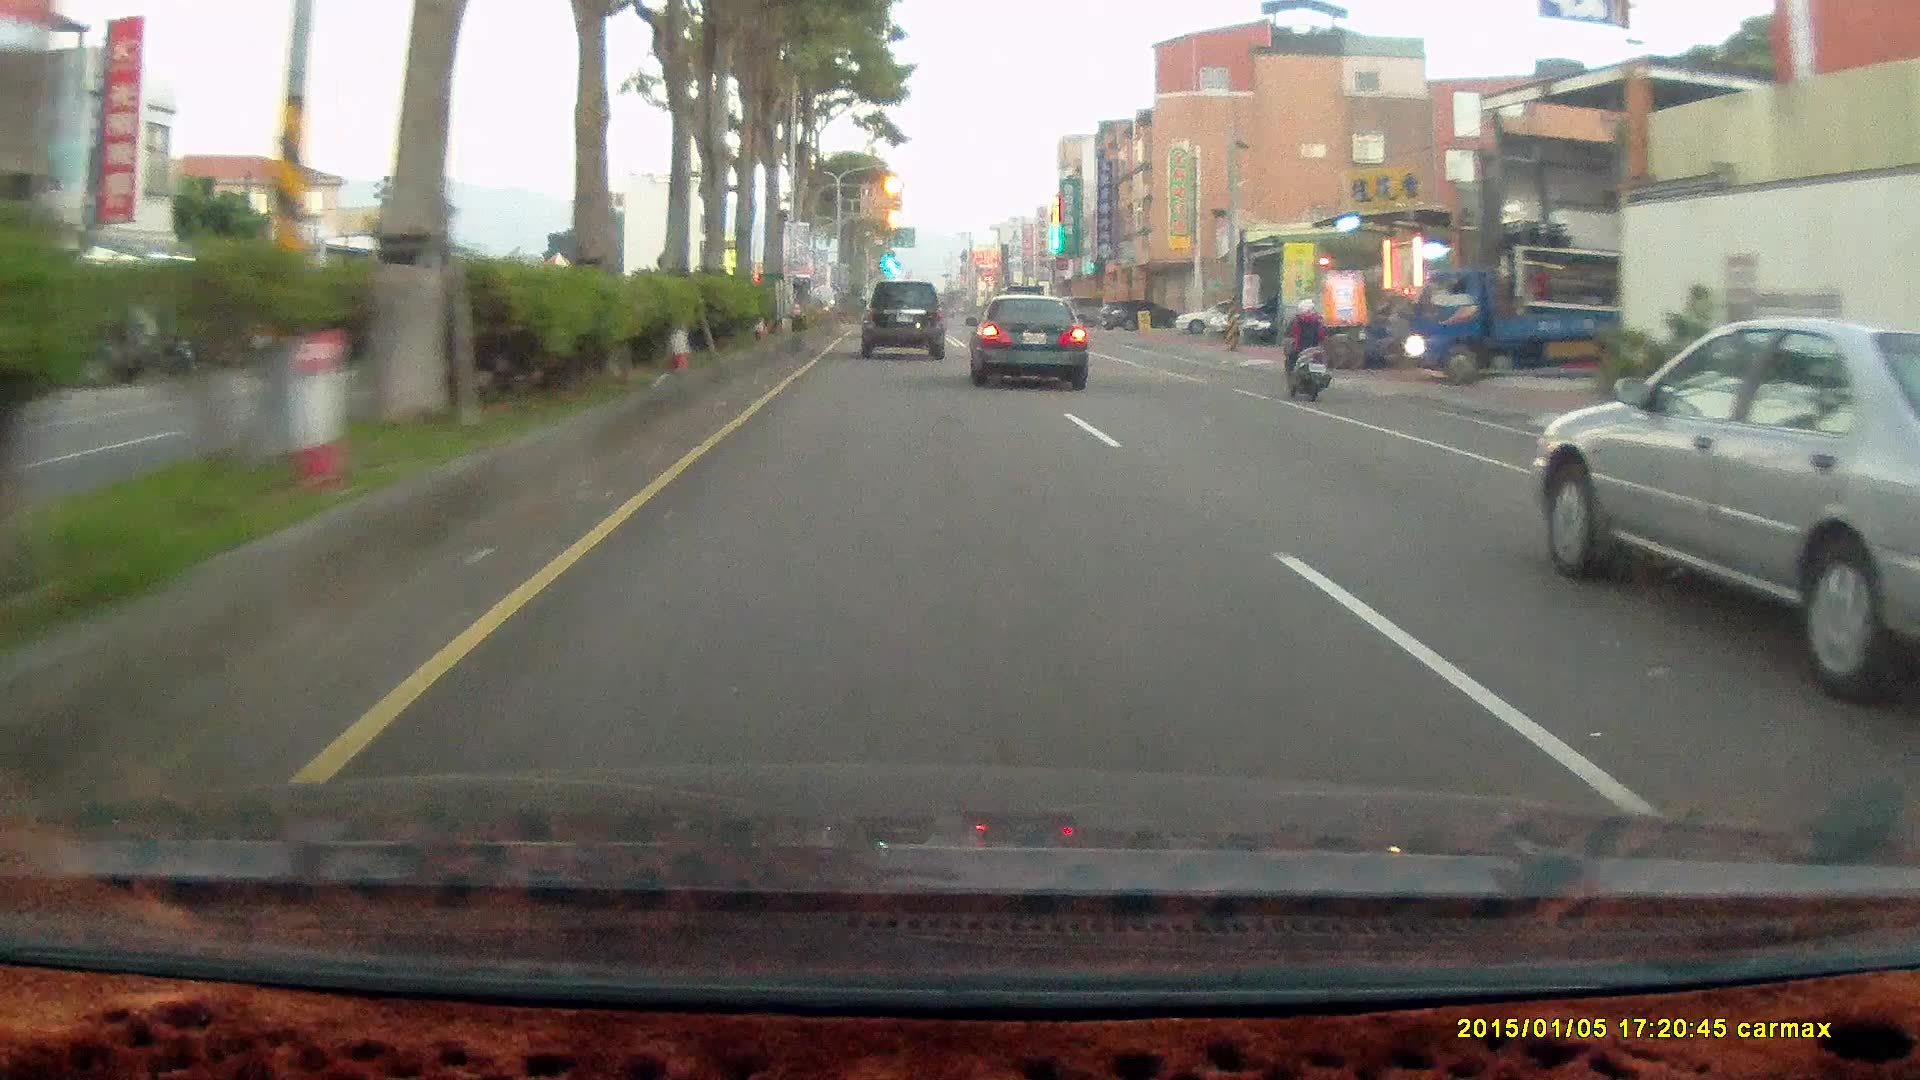rider: (1271, 288, 1343, 412), (1277, 297, 1335, 402)
vehicle: (1533, 317, 1920, 698), (1406, 243, 1624, 385), (1401, 269, 1667, 384), (962, 292, 1088, 390), (973, 295, 1094, 387), (860, 281, 951, 359), (858, 280, 946, 358), (1245, 298, 1333, 346), (1173, 301, 1257, 336), (1100, 298, 1173, 331)
